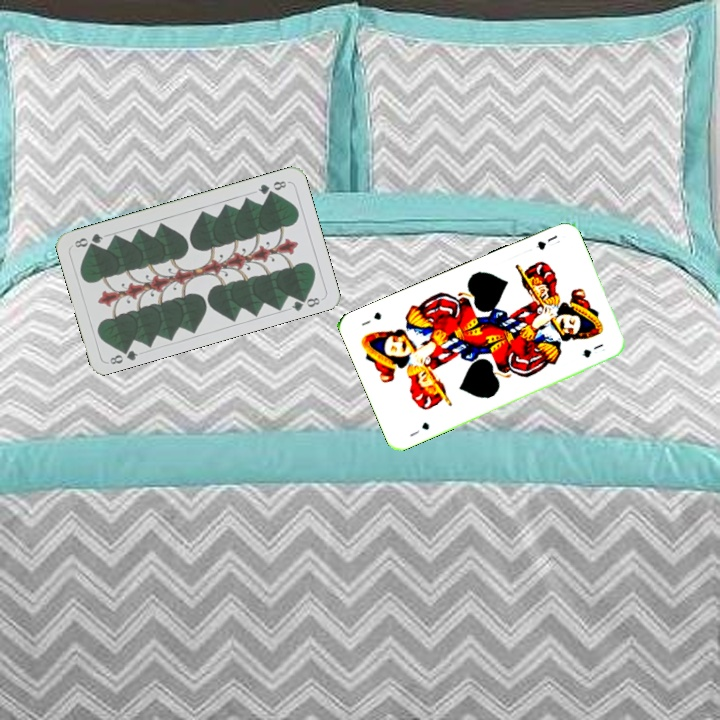G8: (106, 342, 141, 367), (254, 177, 289, 197)
GU: (532, 231, 563, 252), (406, 418, 432, 439)
